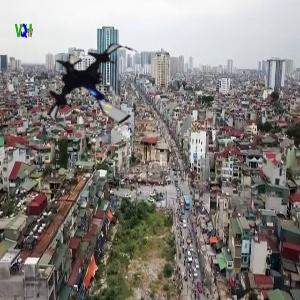drone: (42, 34, 151, 143)
